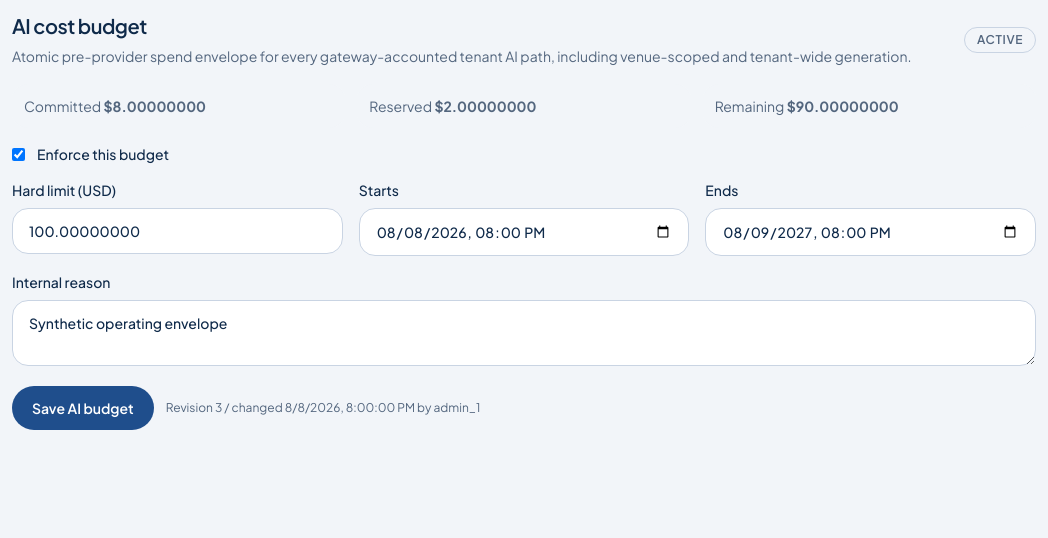
Test: AdminAiCostBudgetForm › reloads authoritative state explicitly and adopts its revision and editable fields
This screenshot has width=1048, height=538.
Click the button "Save AI budget" at point(83, 408), box [12,386,154,430]
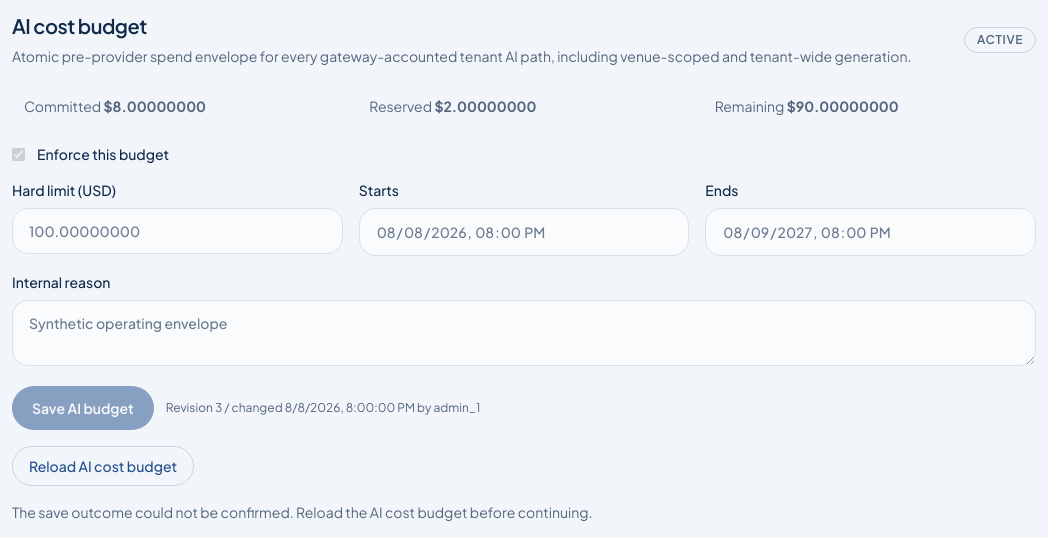
Click the button "Reload AI cost budget" at point(103, 466), box [12,446,194,486]
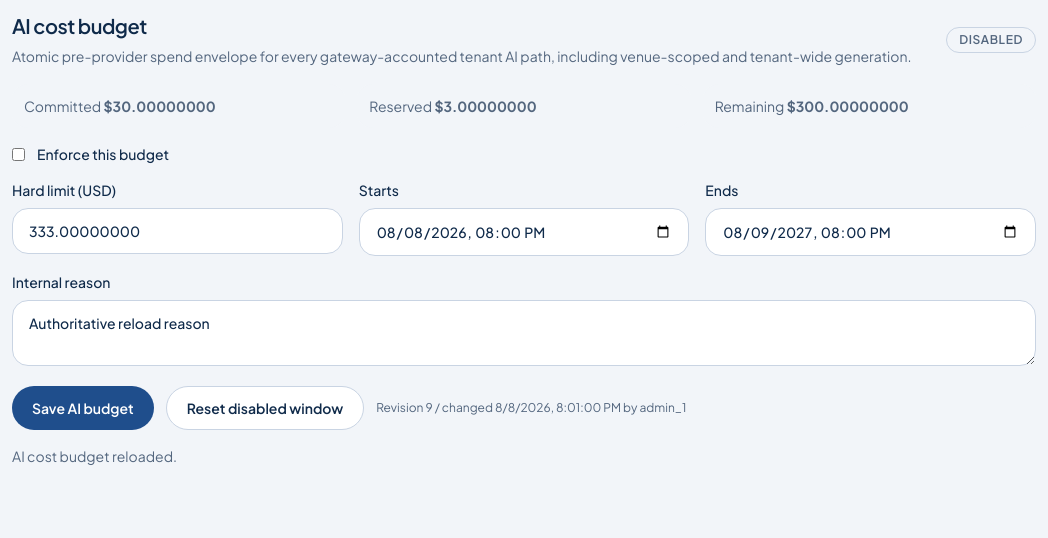
Result: the text "AI cost budget reloaded." is shown at [12,447,177,465]
Result: the field labelled "Hard limit (USD)" holds "333.00000000" at [12,208,343,254]
Result: the text box labelled "Internal reason" holds "Authoritative reload reason" at [12,300,1036,366]
